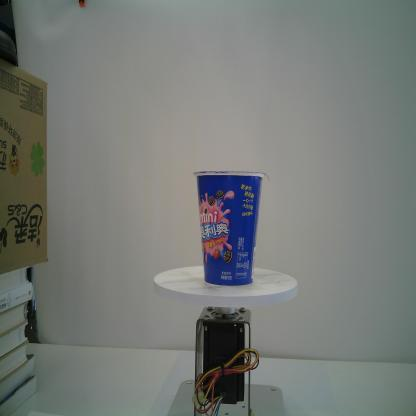Dessert: (192, 169, 270, 284)
